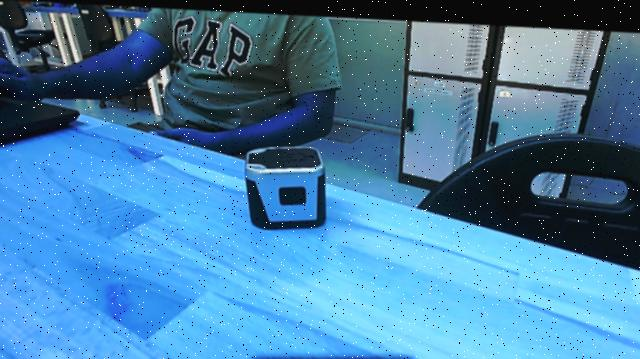adapter: (240, 133, 334, 238)
